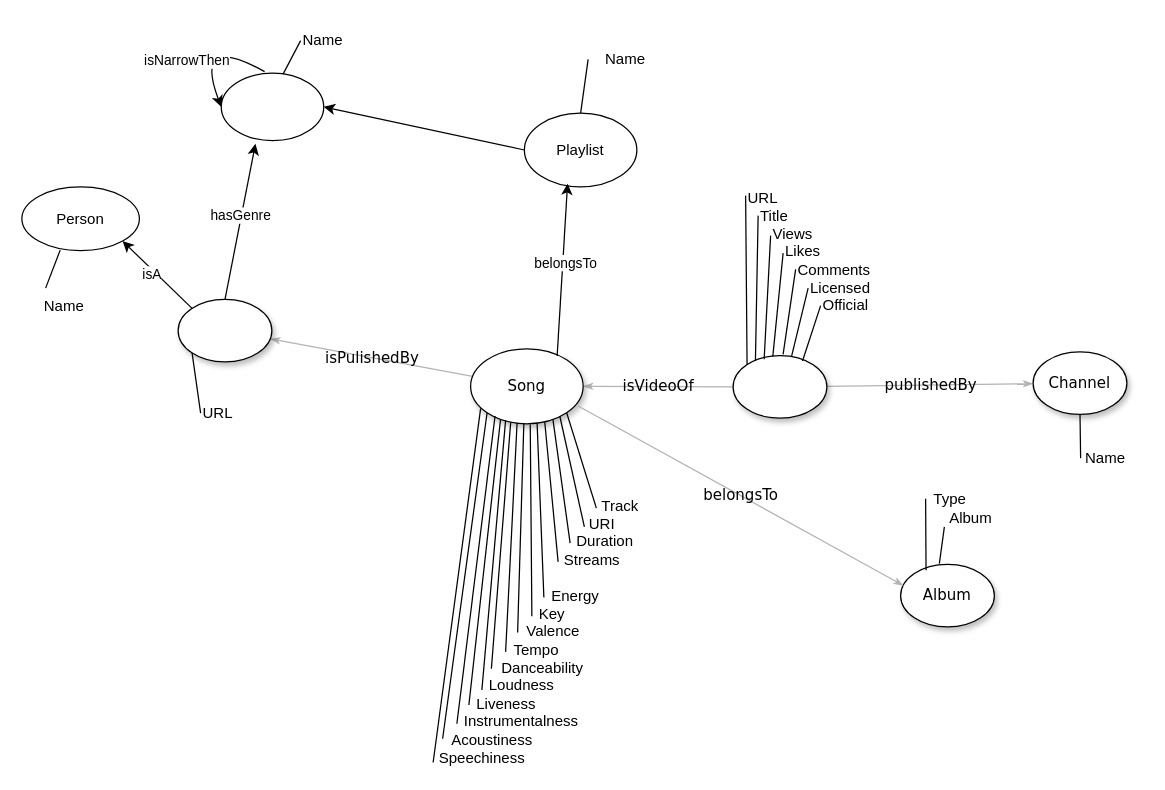
The diagram is 1165 pixels wide and 790 high, and some of its shapes have lost their labels. The centre of each missing label's shape, as x and y in pixels:
Artist: point 225,332
genre: point 272,106
Video: point 780,388
